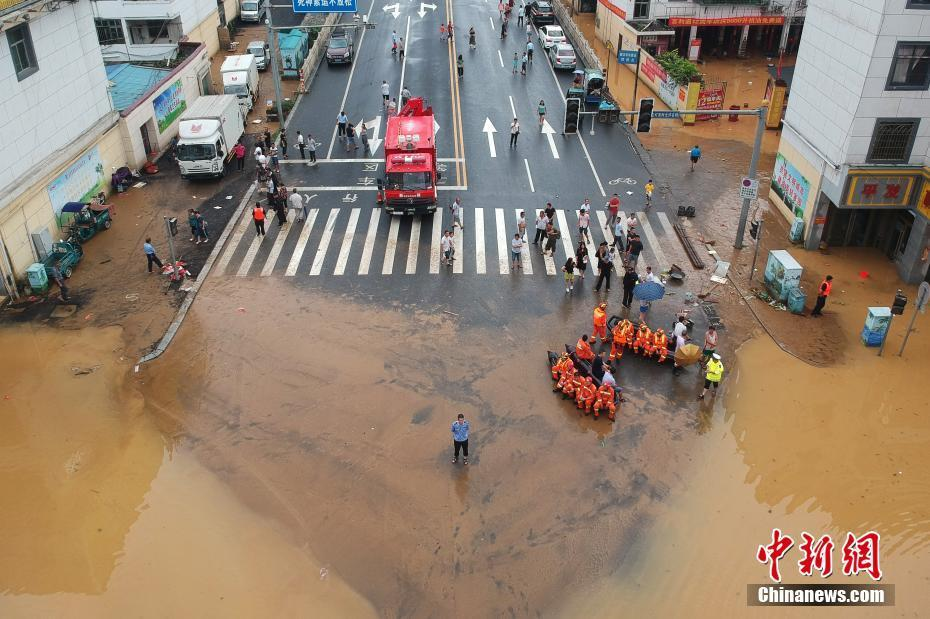puddle: (1, 299, 432, 619), (634, 384, 930, 619)
